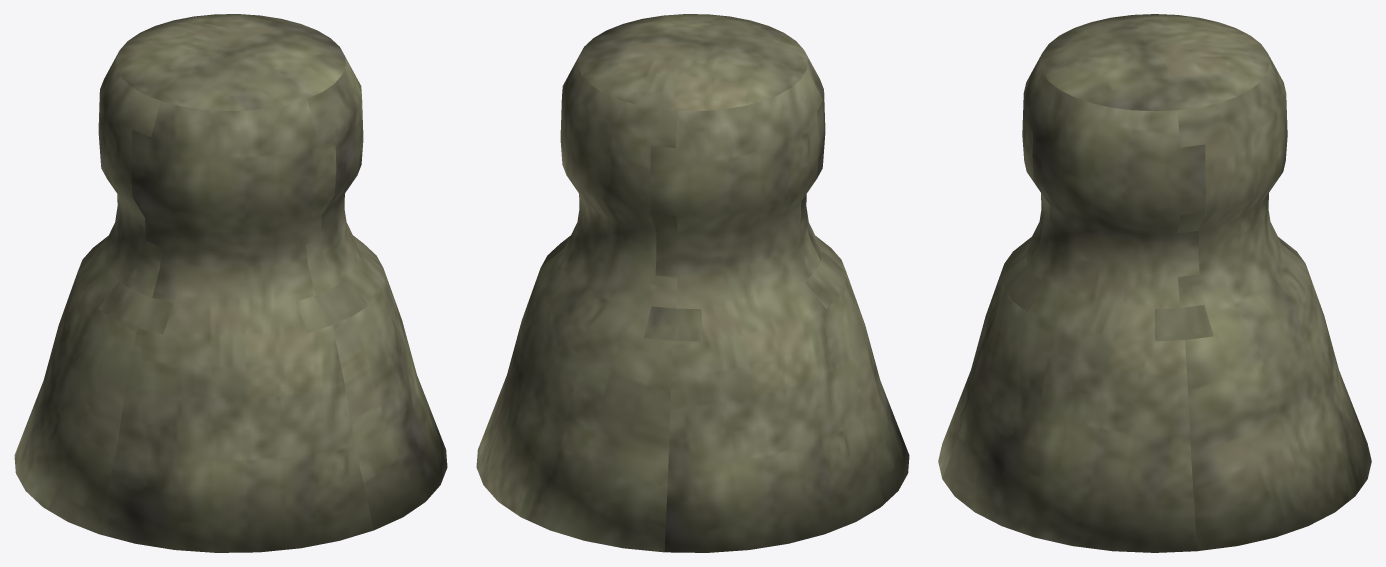
Rendered from body.gltf.
3 renders of one model, left to right at view 1: azimuth 30°, elevation 25°; view 2: azimuth 150°, elevation 25°; view 3: azimuth 270°, elevation 25°, orthographic.
Visible parts, largest first — view 1: Sphere.003; view 2: Sphere.003; view 3: Sphere.003.
Part boxes in pixels (bbox=[...]): Sphere.003: bbox=[14, 14, 447, 552]; Sphere.003: bbox=[476, 14, 909, 552]; Sphere.003: bbox=[938, 14, 1371, 552].
Bounding box in the file's own units: 0.4257 × 0.455 × 0.4257.
Materials: 1 (1 with a texture image).
